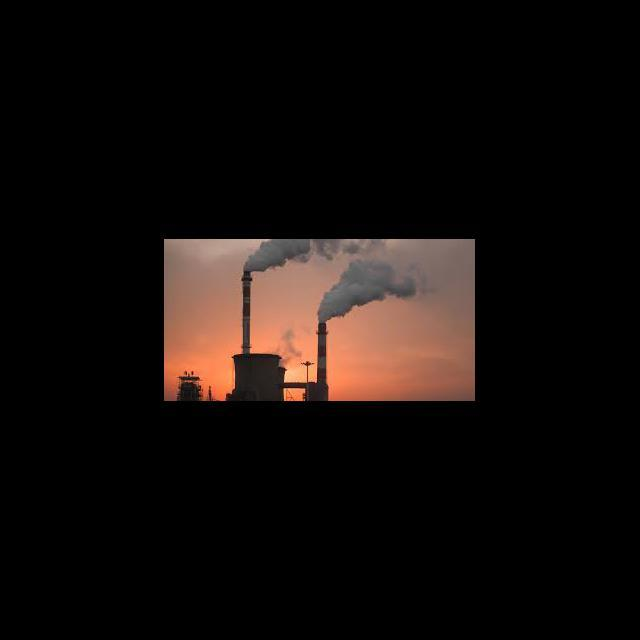Smoke: (319, 262, 416, 322), (242, 242, 313, 270)
